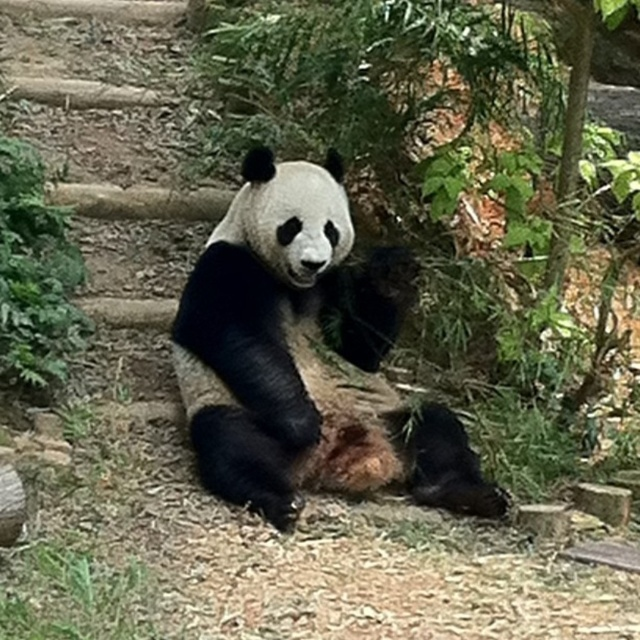Panda: (164, 143, 515, 535)
